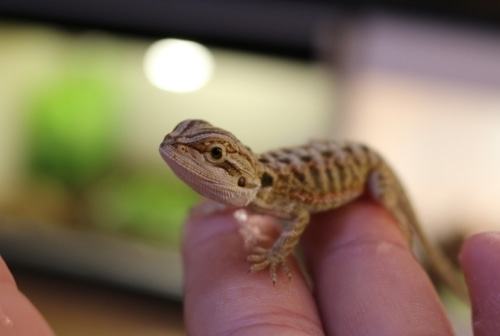bearded: (157, 114, 470, 310)
